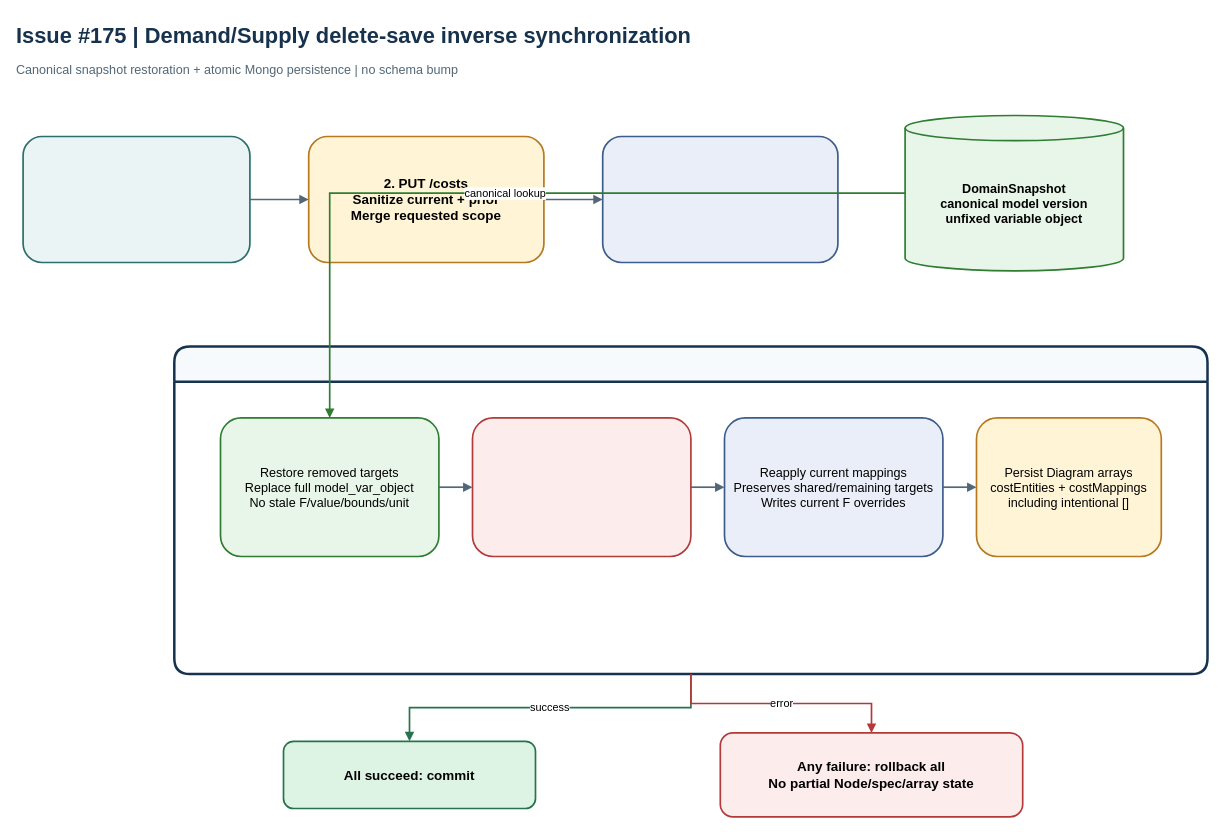
This 1223x832 diagram has some shape labels left out. The shapes that lost their labels are listed below. From the top down, each one's box as (x1, y1, x2, y2) in pixels, then its label:
(22, 135, 250, 263): 1. Demand/Supply editor Delete entity or mapping Save arrays
(601, 135, 838, 263): 3. Binding diff current keys vs prior keys removed = prior - current
(471, 417, 691, 557): Clear sparse overrides Base: matching patches MTP: ECONOMIC_MAPPING only
(173, 345, 1208, 675): Mongo interactive transaction
